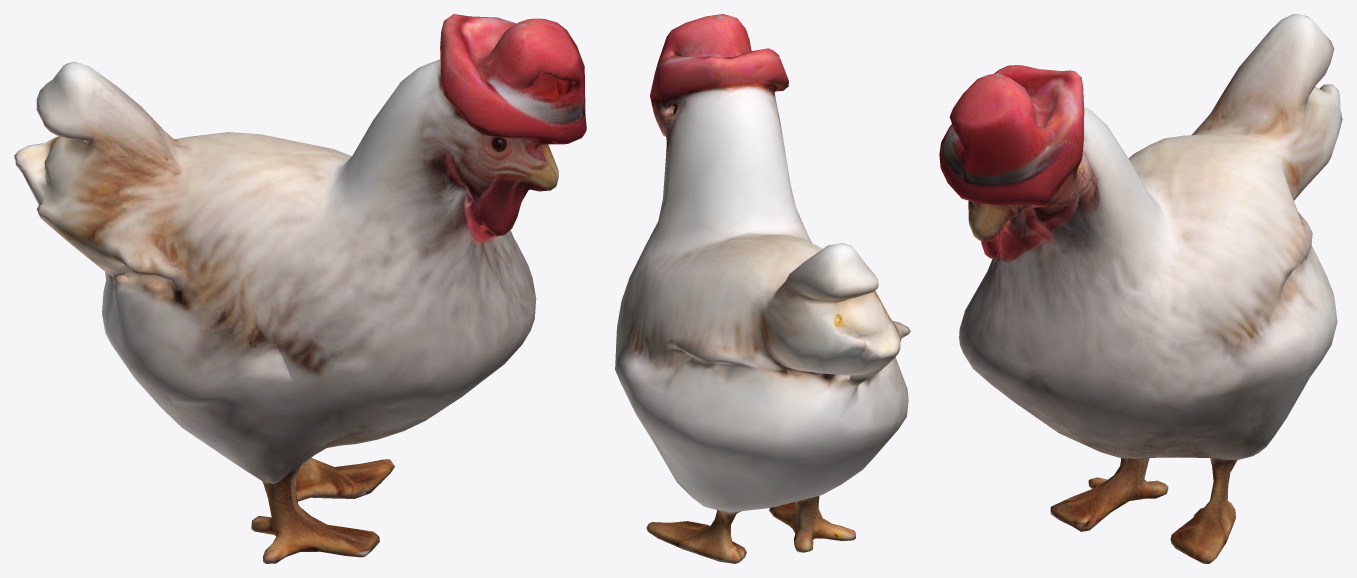
The picture shows the model from 3 angles, left to right: view 1: azimuth 30°, elevation 25°; view 2: azimuth 150°, elevation 25°; view 3: azimuth 270°, elevation 25°; orthographic projection. The views are drawn at different scales.
Visible parts, largest first — view 1: world; view 2: world; view 3: world.
Boxes of the visible parts, <box> form: world: <box>14,14,586,563</box>; world: <box>615,14,910,563</box>; world: <box>939,14,1342,563</box>.
Size of the model in its own units: 1.32 by 1.64 by 1.18.
1 material, 1 textured.
